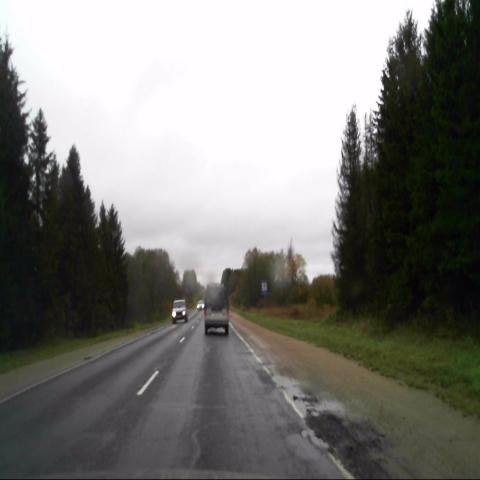7_7: (261, 280, 267, 295)
